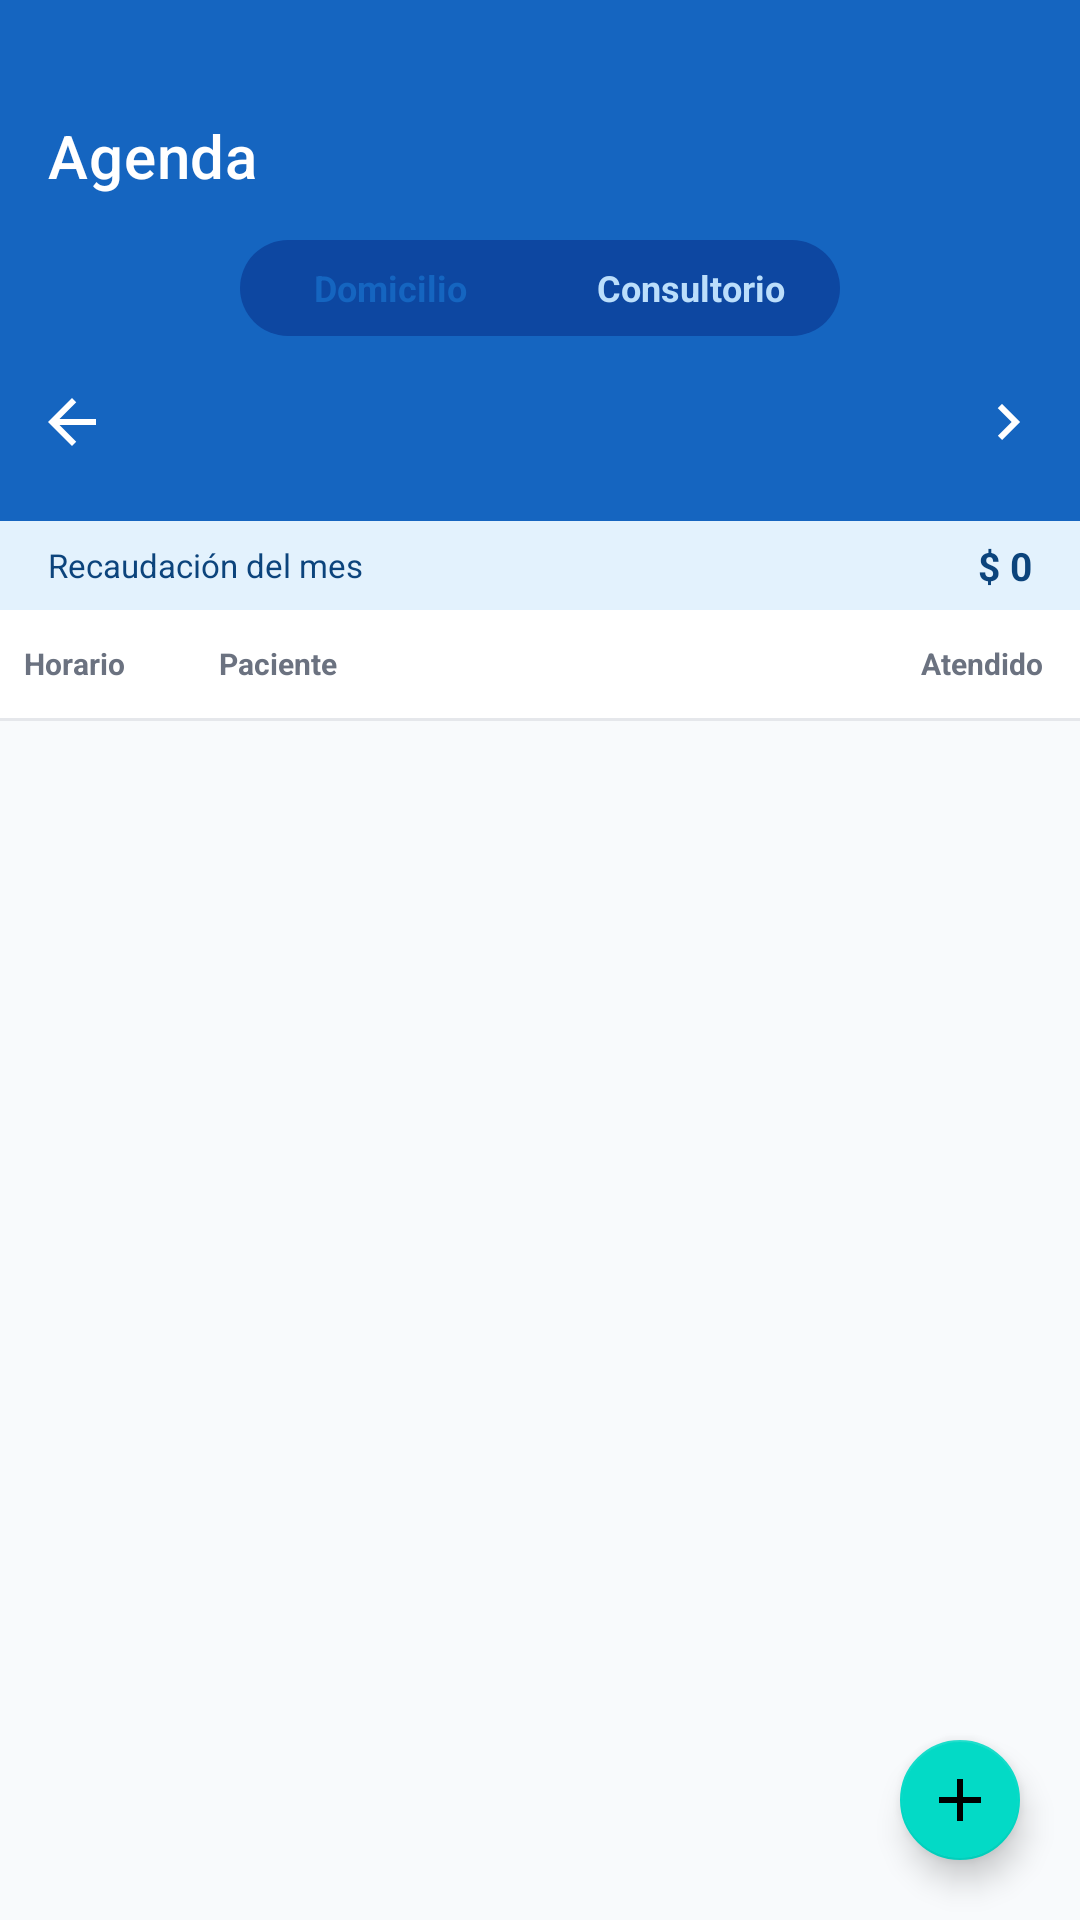

Icons on this 1080px x 1920px Android screen, each with its box as (x1, y1, x2, y2):
Día anterior: (48, 398, 96, 446)
Día siguiente: (998, 404, 1020, 440)
Nuevo paciente: (900, 1740, 1023, 1872)
